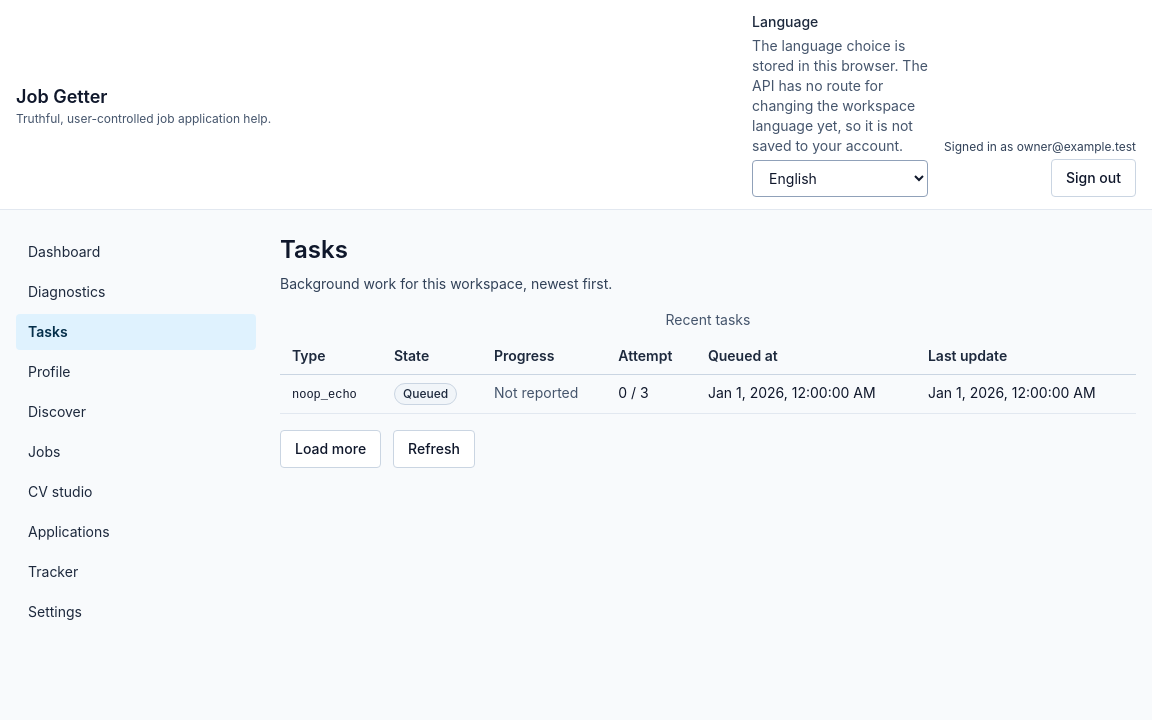
Scenario: tasks list › follows the cursor when loading another page
Click the button "Load more".
click(331, 449)  # box top-left (280, 430), bottom-right (381, 468)
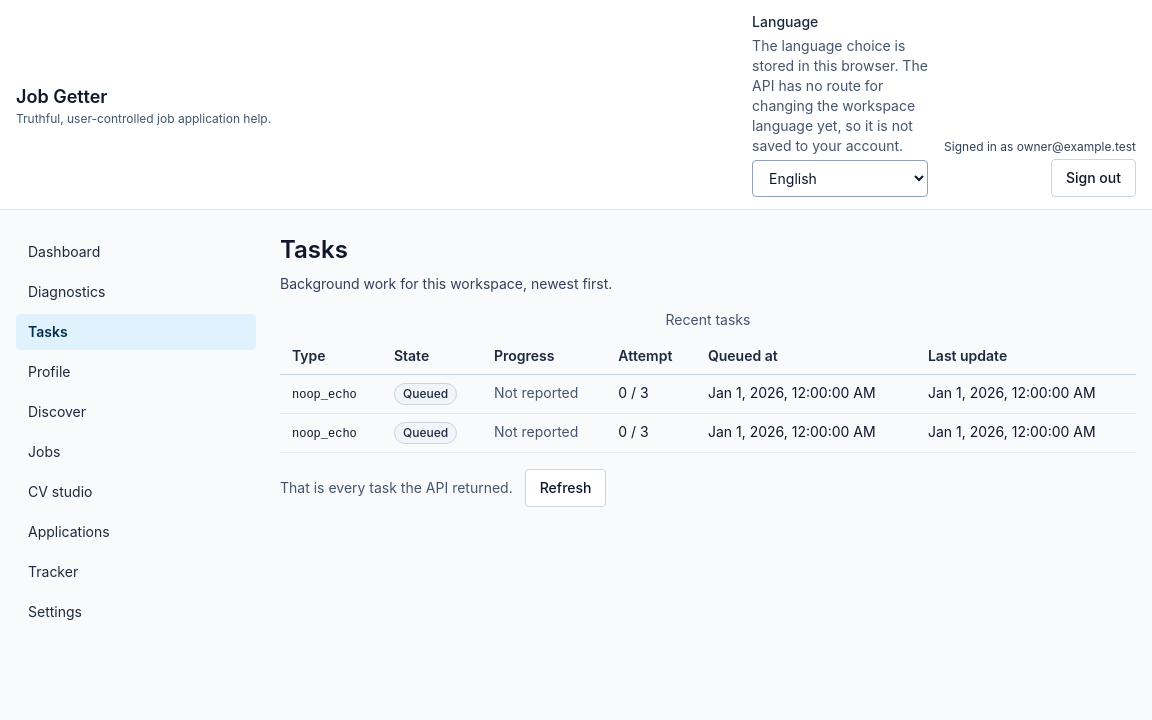
Check: the text "That is every task the API returned." is shown, box top-left (280, 478), bottom-right (513, 498)
